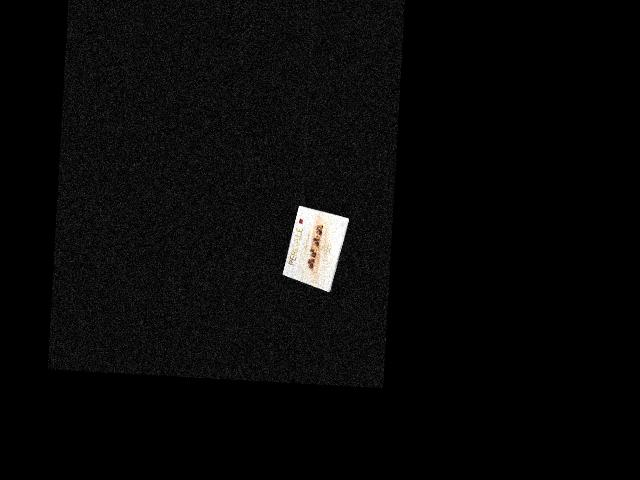chocolate: (282, 208, 352, 289)
